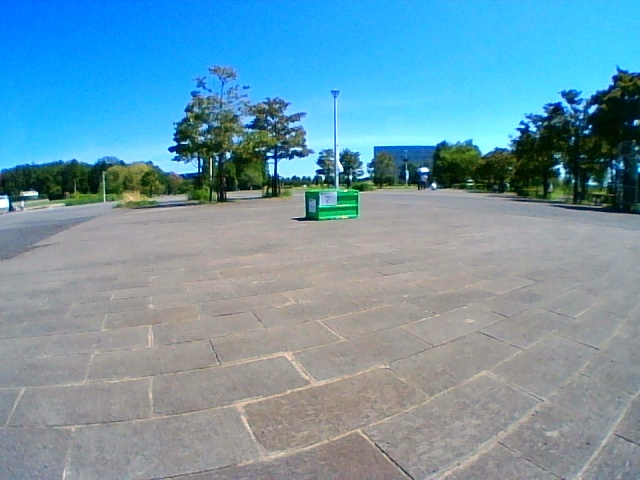green_box: (306, 188, 358, 221)
tag: (318, 191, 335, 206)
